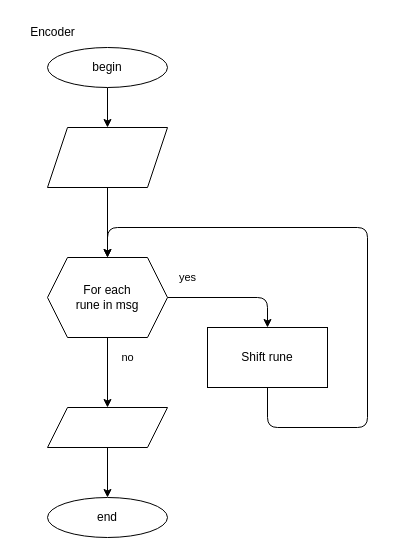
This 393x555 diagram has some shape labels left out. The shapes that lost their labels are listed below. From the top down, each one's centre as x and y in pixels, then its label:
At (x=107, y=157): "Input msg and shift".
At (x=107, y=427): "Output result".
